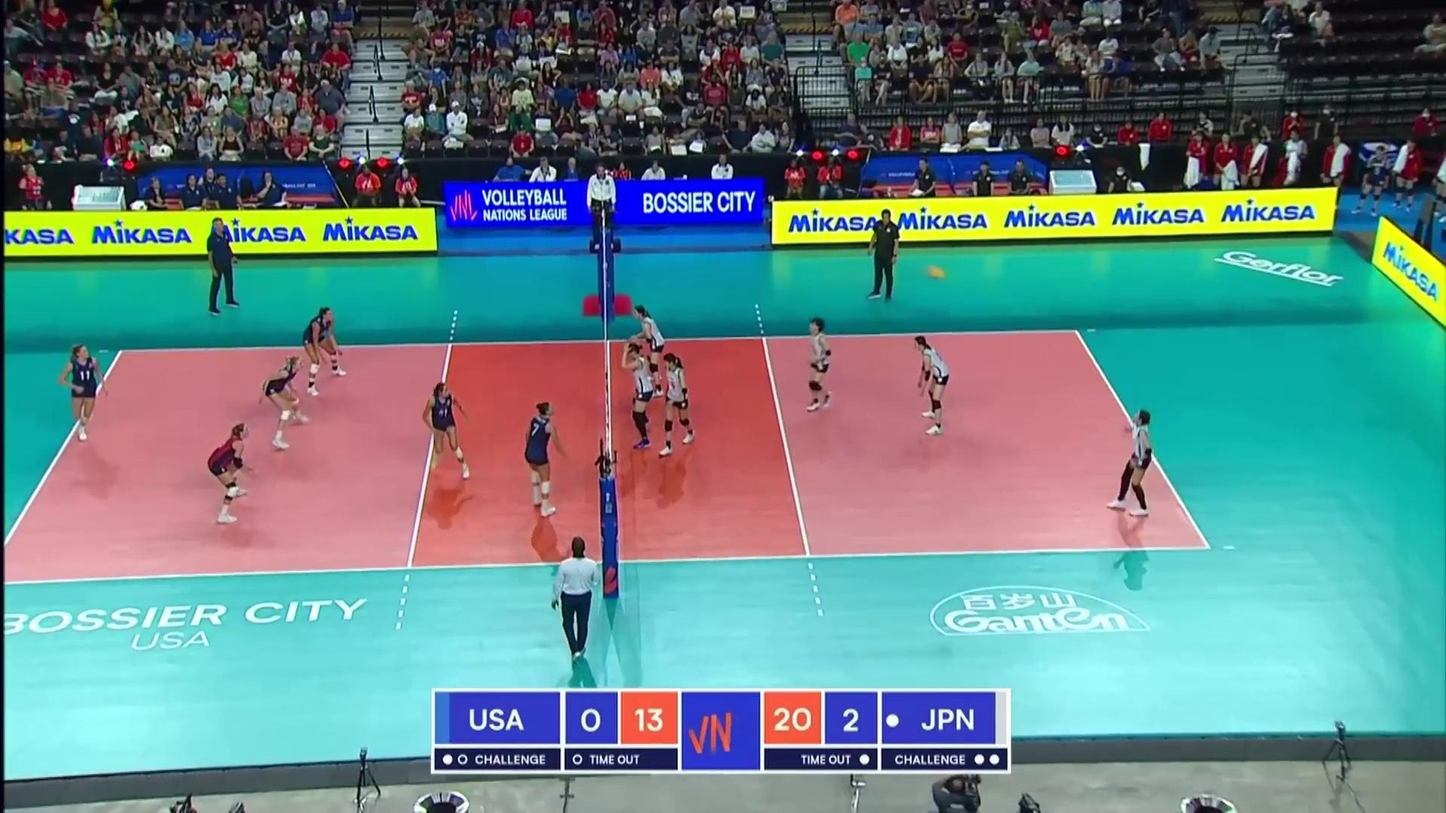player: (521, 403, 568, 518), (424, 382, 471, 481), (262, 356, 311, 450), (1109, 410, 1152, 517), (210, 424, 255, 525), (61, 345, 107, 441), (914, 335, 952, 437), (305, 307, 347, 397), (661, 353, 695, 458), (624, 340, 654, 449), (803, 316, 835, 413), (631, 304, 664, 397)
refree: (552, 537, 597, 658), (588, 163, 618, 248)
